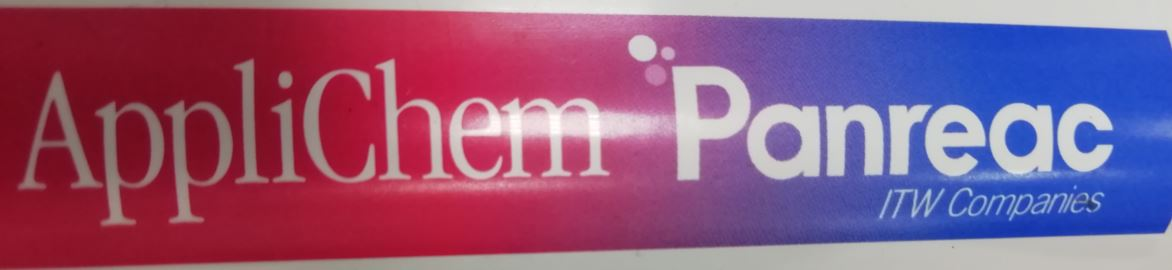ApplichemPanreac: (18, 62, 1122, 226)
